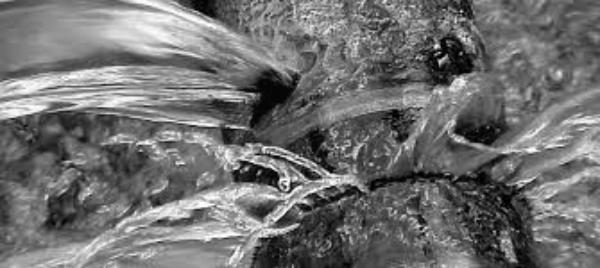water: (192, 22, 358, 250)
